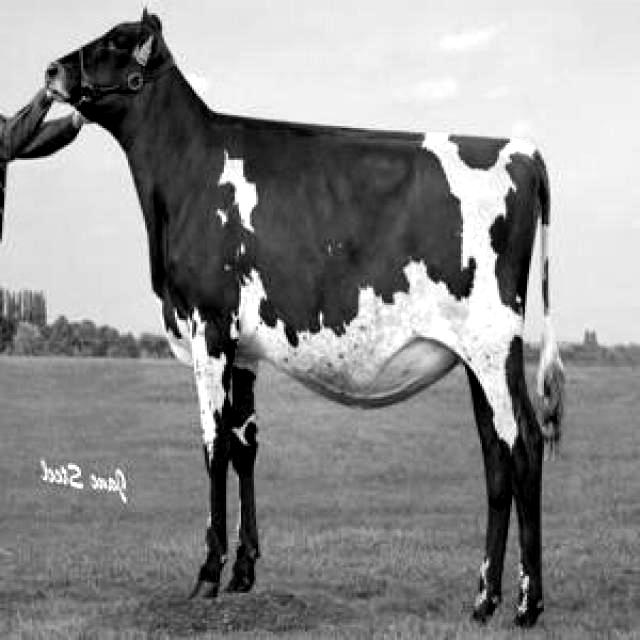COW: (48, 14, 561, 626)
